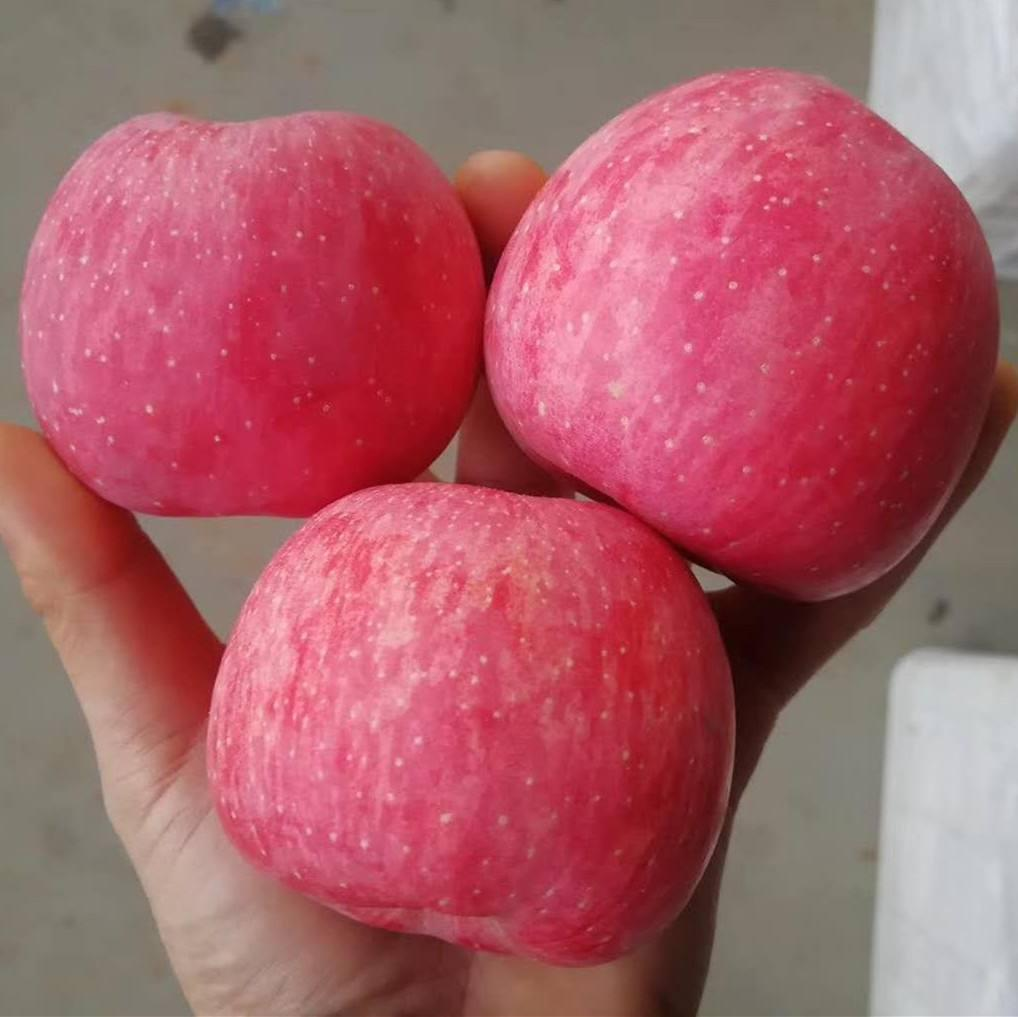apple: (472, 73, 1005, 609), (204, 476, 728, 957), (20, 108, 499, 522)
